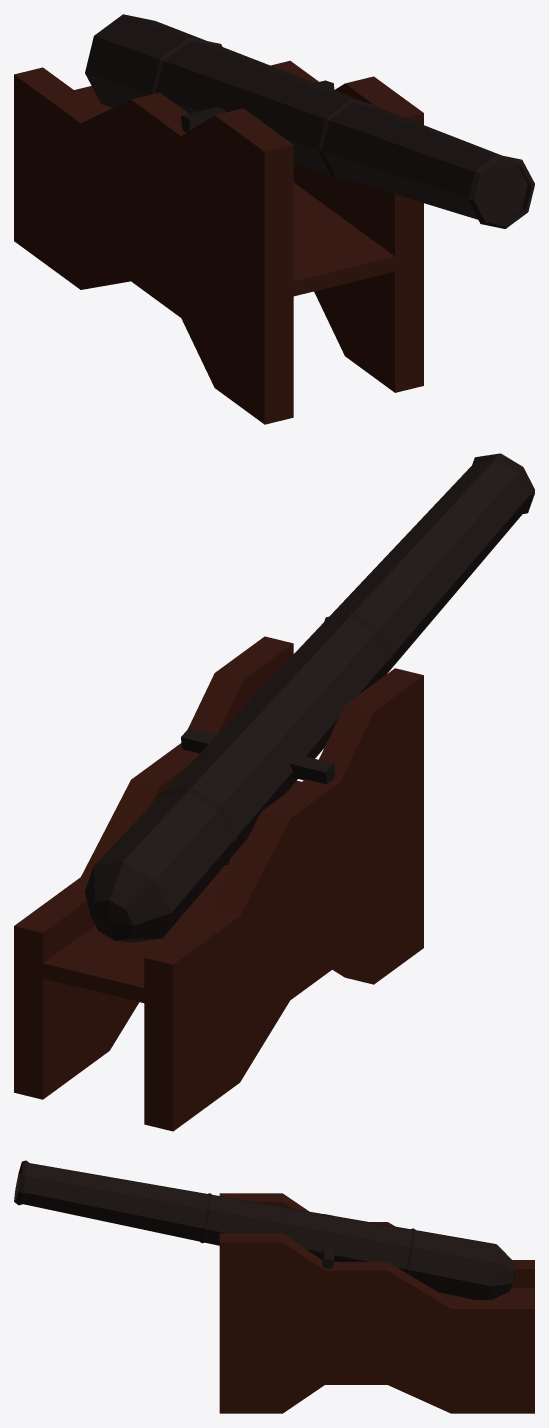
File: Cañon.fbx
3 renders of one model, top to bottom at view 1: azimuth 30°, elevation 25°; view 2: azimuth 150°, elevation 25°; view 3: azimuth 270°, elevation 25°, orthographic. The views are drawn at different scales.
Visible parts, largest first — view 1: Cañon; view 2: Cañon; view 3: Cañon.
Boxes of the visible parts, left/top/right/bottom form: Cañon: left=14, top=14, right=534, bottom=424; Cañon: left=14, top=453, right=534, bottom=1131; Cañon: left=14, top=1160, right=534, bottom=1413.
Bounding box in the file's own units: 1.1 × 2.39 × 4.96.
